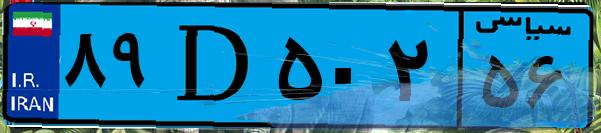0: (330, 28, 385, 110)
2: (385, 28, 445, 110)
5: (270, 28, 330, 110), (475, 38, 525, 113)
6: (525, 38, 570, 115)
8: (57, 26, 110, 100)
9: (110, 28, 158, 98)
D: (158, 12, 270, 120)
